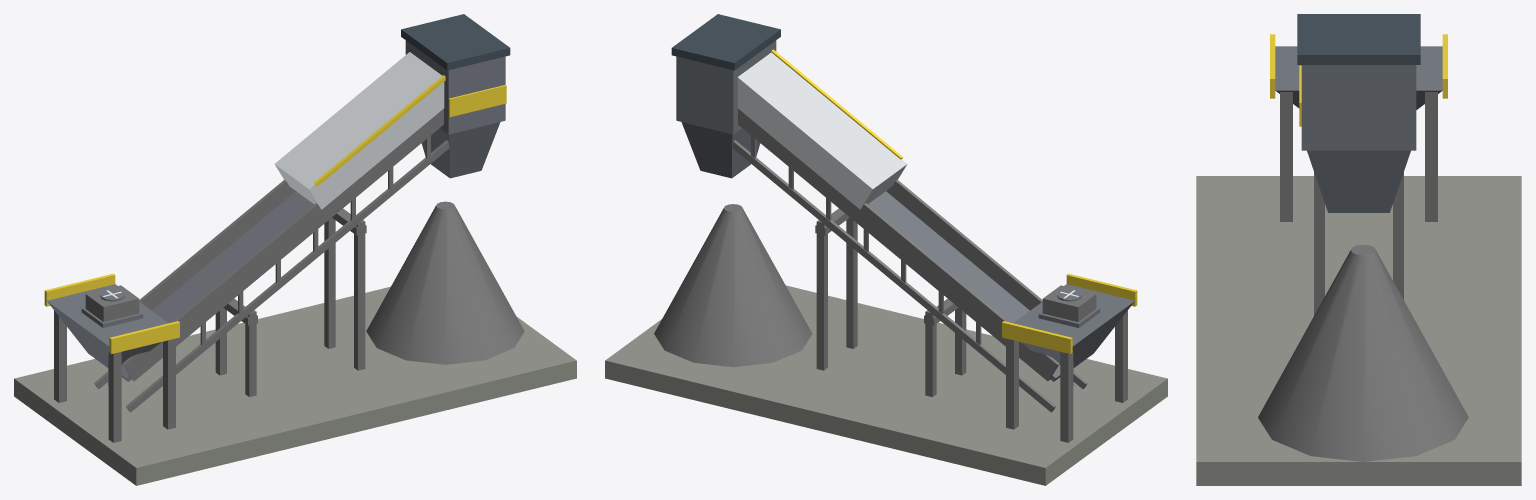
Rendered from mashup-conveyor-mid-prebuilt_close.fbx.
The picture shows the model from 3 angles, left to right: view 1: azimuth 30°, elevation 25°; view 2: azimuth 150°, elevation 25°; view 3: azimuth 270°, elevation 25°; orthographic projection. The views are drawn at different scales.
Parts seen in each view (by area): view 1: a1025.Conveyor.001; view 2: a1025.Conveyor.001; view 3: a1025.Conveyor.001.
Part boxes in pixels (box(x1,y1,x2,y2)): a1025.Conveyor.001: box(14, 14, 576, 485); a1025.Conveyor.001: box(605, 14, 1167, 485); a1025.Conveyor.001: box(1196, 14, 1521, 485).
Bounding box in the file's own units: 15.4 × 10.35 × 7.4.
